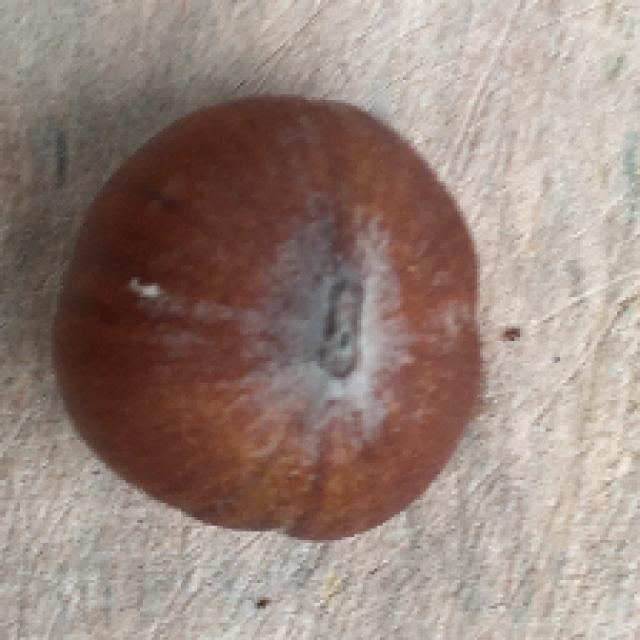QualityHazelnut: (54, 94, 490, 543)
